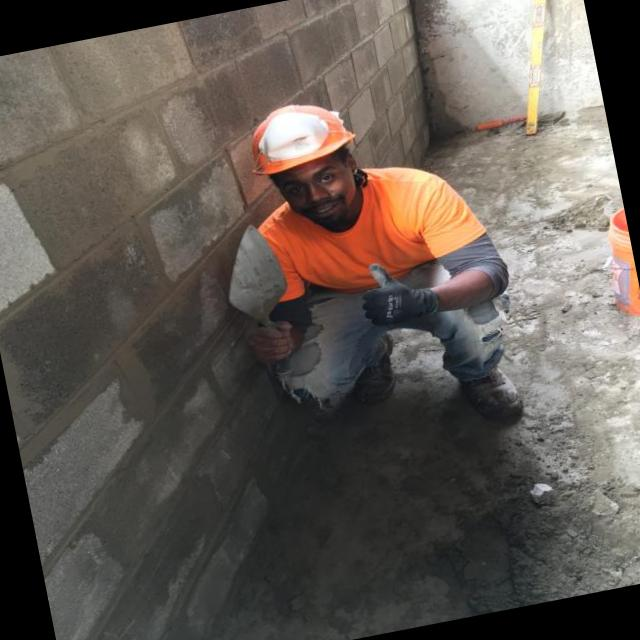Gloves: (342, 258, 436, 344)
Helmet: (229, 76, 367, 191)
